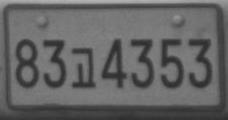3: (187, 37, 213, 89), (129, 38, 155, 89), (42, 38, 67, 88)
4: (100, 38, 127, 88)
5: (159, 37, 184, 89)
8: (14, 37, 39, 88)
고: (70, 46, 96, 88)
